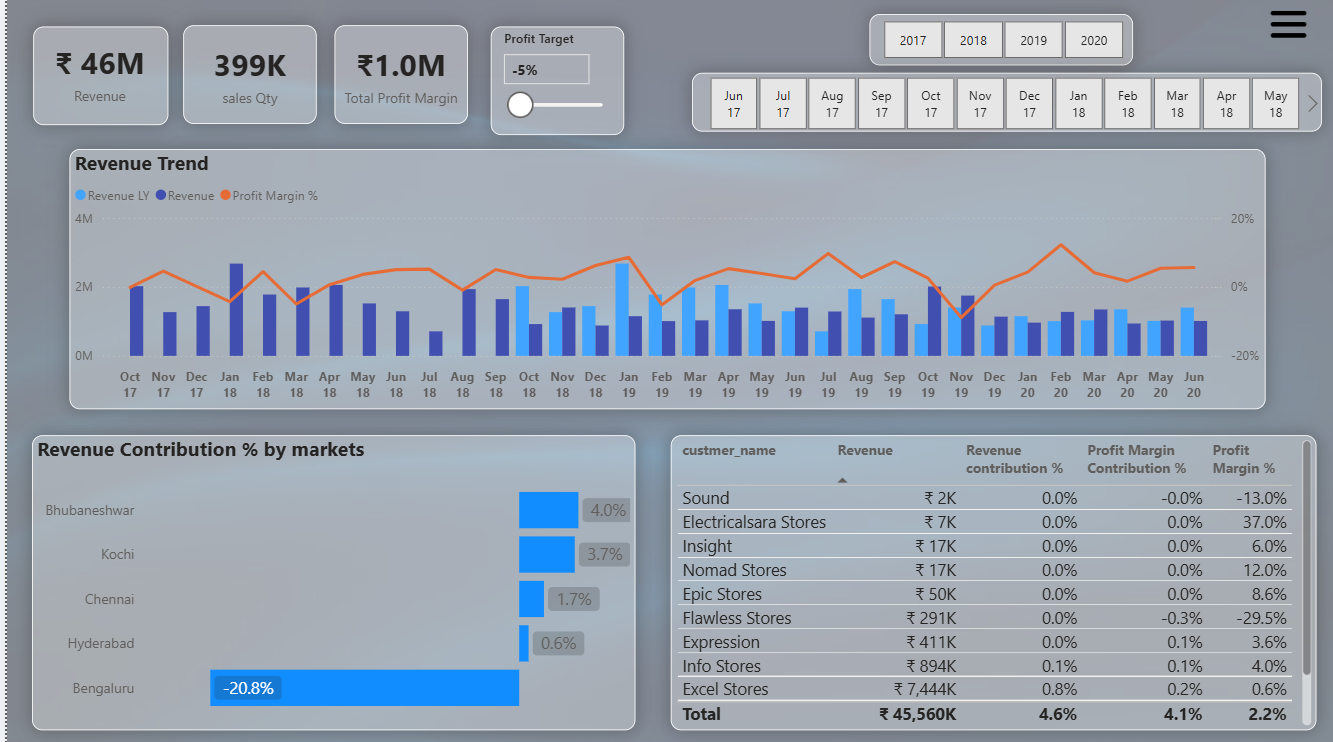

This screenshot's page, from the dashboard's own definition file:
{"tool":"powerbi","page":{"name":"Performance Insights","canvas":[1280,720],"ordinal":2},"visuals":[{"type":"image","box":[1214.8,3,44.4,44.4],"z":0},{"type":"shape","box":[25.3,26.5,130.3,95.3],"z":5000},{"type":"card","fields":{"Values":["Base Measures 2.Revenue"]},"box":[25.3,25.3,129,91.7],"z":6000},{"type":"shape","box":[24.1,420.9,582.5,284.6],"z":7000},{"type":"barChart","title":"Revenue Contribution % by markets","fields":{"Category":["sales markets.zone","sales markets.markets_name"],"Y":["Base Measures 2.Profit Margin %"]},"box":[24.1,420.9,582.5,284.6],"z":8000},{"type":"shape","box":[60.3,144.7,1154.2,250.9],"z":9000},{"type":"lineClusteredColumnComboChart","title":"Revenue Trend","fields":{"Category":["sales date.cy_date"],"Y":["Base Measures 2.Revenue LY","Base Measures 2.Revenue"],"Y2":["Base Measures 2.Profit Margin %"]},"box":[60.3,144.7,1154.2,250.9],"z":10000},{"type":"shape","box":[640.4,420.9,623.5,284.6],"z":11000},{"type":"tableEx","title":"Top 5 customer","fields":{"Values":["sales customers.custmer_name","Base Measures 2.Revenue","Base Measures 2.Revenue contribution %","Base Measures 2.Profit Margin Contribution %","Base Measures 2.Profit Margin %"]},"box":[640.4,420.9,623.5,284.6],"z":12000},{"type":"shape","box":[832.2,14.5,254.5,49.4],"z":13000},{"type":"slicer","fields":{"Values":["sales date.year"]},"box":[820.1,14.5,281,49.4],"z":14000},{"type":"shape","box":[660.9,71.2,607.8,56.7],"z":15000},{"type":"slicer","fields":{"Values":["sales date.cy_date"]},"box":[652.5,68.7,618.7,63.9],"z":16000},{"type":"shape","box":[170.1,25.3,129,95.3],"z":17000},{"type":"shape","box":[316,25.3,129,95.3],"z":18000},{"type":"shape","box":[466.7,26.5,129,104.9],"z":19000},{"type":"card","fields":{"Values":["Base Measures 2.sales Qty"]},"box":[170.1,25.3,129,95.3],"z":20000},{"type":"card","fields":{"Values":["Base Measures 2.Total Profit Margin"]},"box":[316,25.3,129,95.3],"z":21000},{"type":"slicer","fields":{"Values":["Profit Target.Profit Target"]},"box":[466.7,25.3,129,104.9],"z":22000}]}

Visuals, with their boxes in screenshot pixels (x1, y1, x2, y2), scaled from the page's 1280x720 canvas onto the 1333x742 screenshot:
image: 1265,3,1311,49
shape: 26,27,162,126
card - Base Measures 2.Revenue: 26,26,161,121
shape: 25,434,632,727
"Revenue Contribution % by markets" barChart: 25,434,632,727
shape: 63,149,1265,408
"Revenue Trend" lineClusteredColumnComboChart: 63,149,1265,408
shape: 667,434,1316,727
"Top 5 customer" tableEx: 667,434,1316,727
shape: 867,15,1132,66
slicer - sales date.year: 854,15,1147,66
shape: 688,73,1321,132
slicer - sales date.cy_date: 680,71,1324,137
shape: 177,26,311,124
shape: 329,26,463,124
shape: 486,27,620,135
card - Base Measures 2.sales Qty: 177,26,311,124
card - Base Measures 2.Total Profit Margin: 329,26,463,124
slicer - Profit Target.Profit Target: 486,26,620,134
